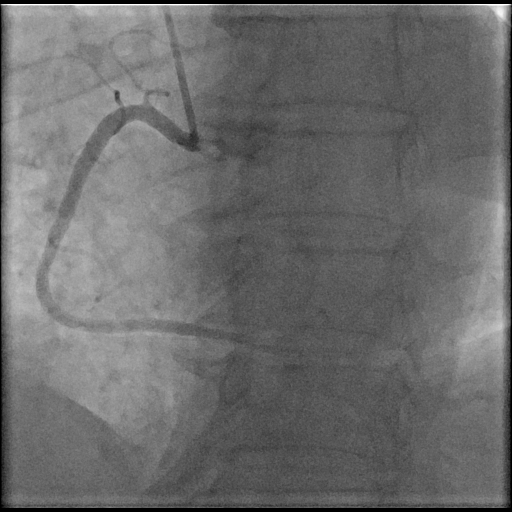RCA: (34, 103, 239, 338)
catherter: (163, 7, 198, 129)
